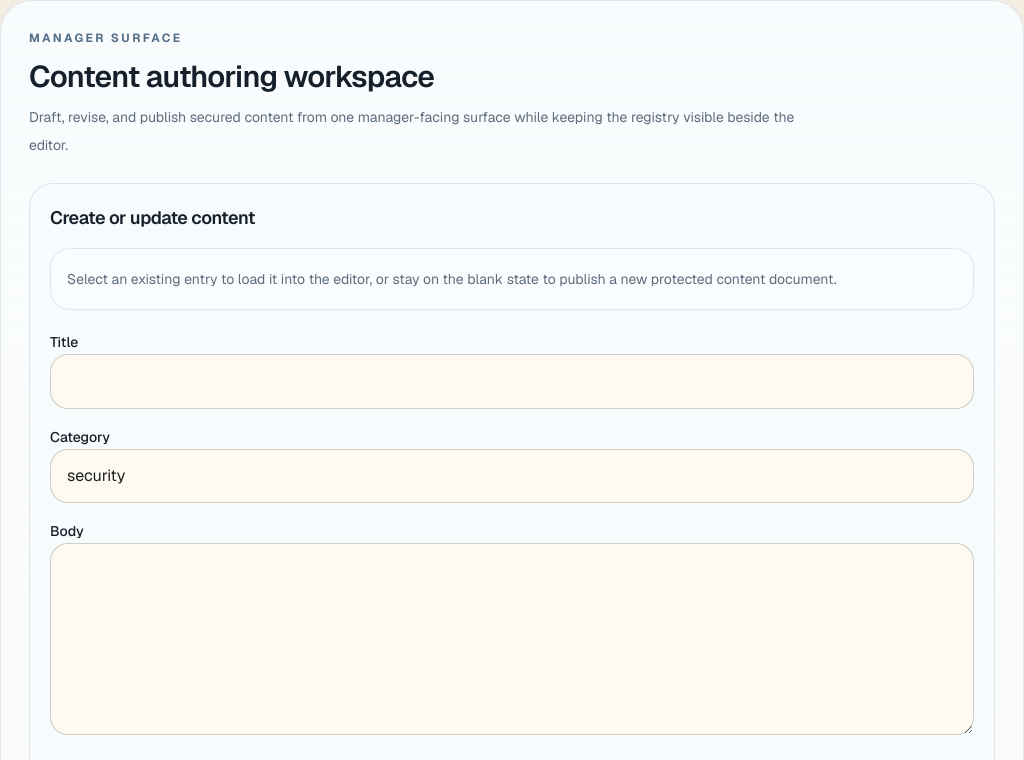
ManageContentClient › shows a structured error when saving fails
Type "Broken content" into the field labelled "Title". click: (512, 381)
box: x1=50 y1=354 x2=974 y2=409
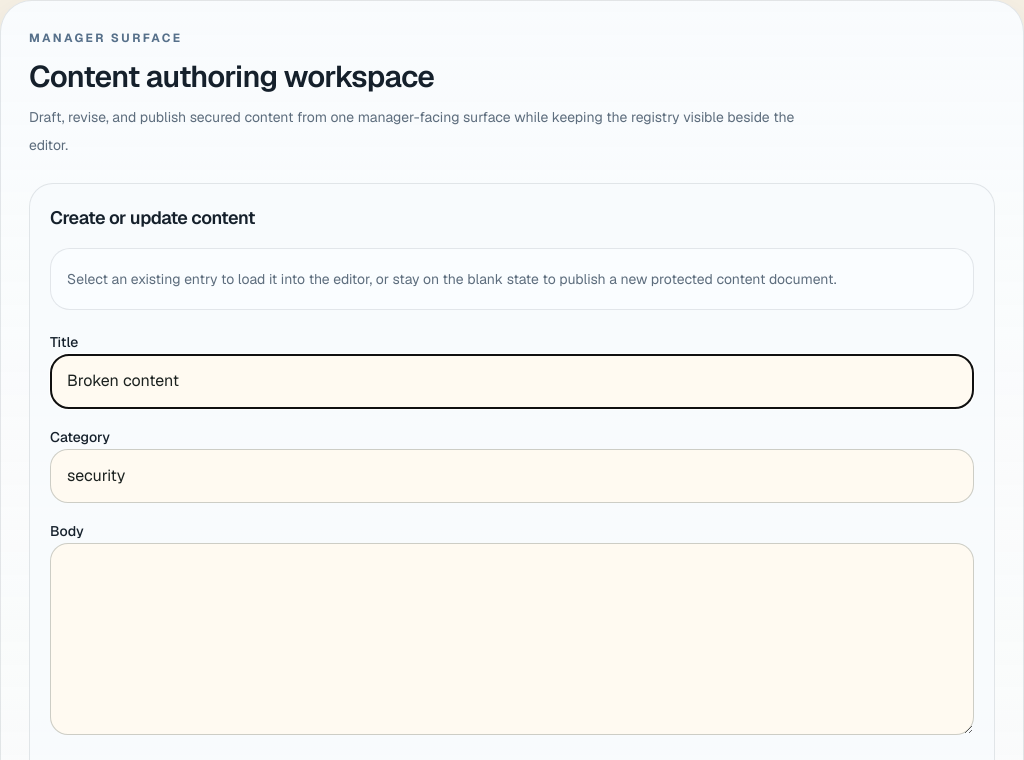
Type "Missing fields" into the text box labelled "Body". click: (512, 639)
box: x1=50 y1=543 x2=974 y2=735
(page scrolled)
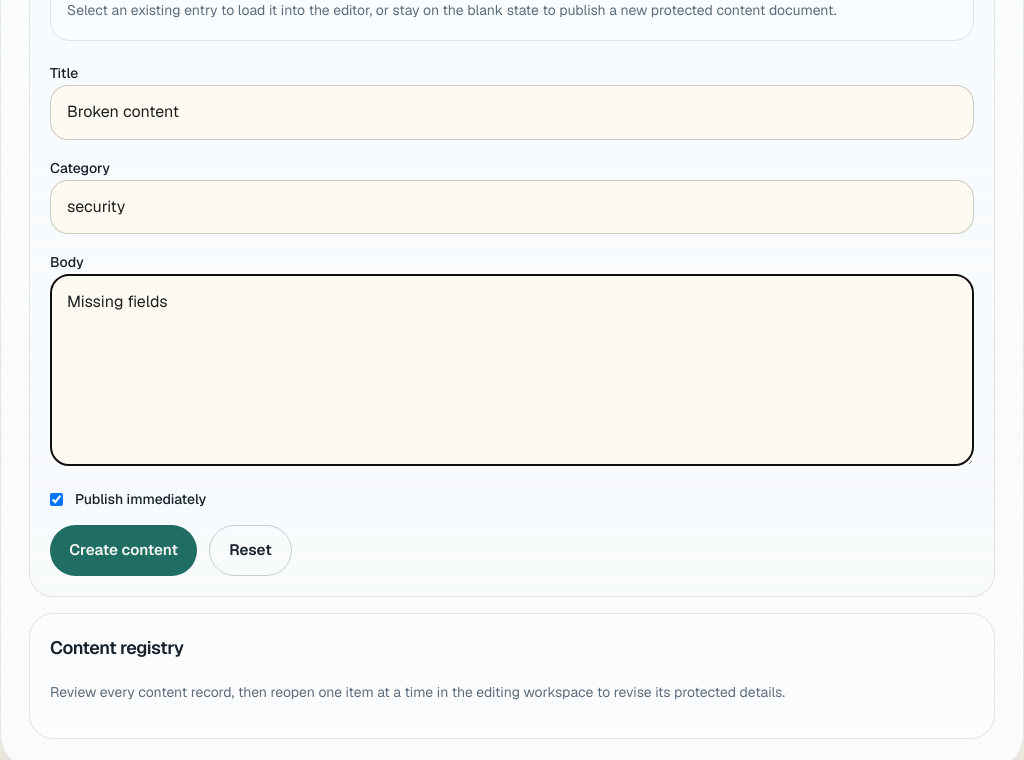
Click the button "Create content". click: click(124, 550)
box: x1=50 y1=525 x2=197 y2=576
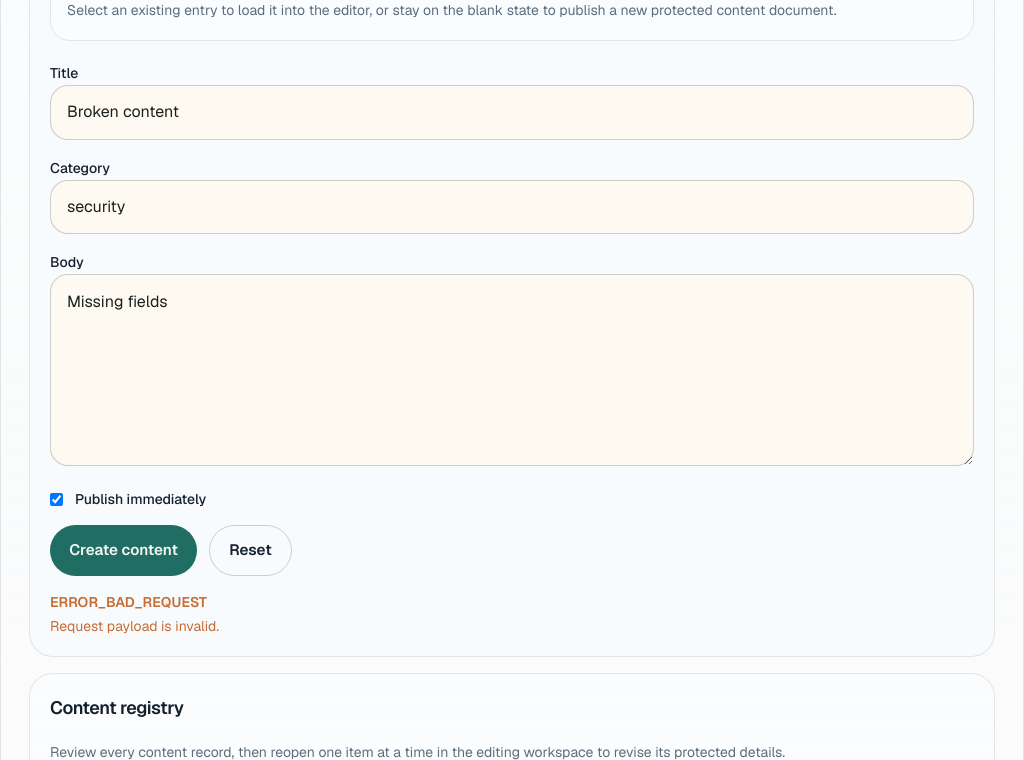
Now the text "ERROR_BAD_REQUEST" is shown, box x1=50 y1=593 x2=207 y2=611
Now the text "Request payload is invalid." is shown, box x1=50 y1=617 x2=219 y2=635
